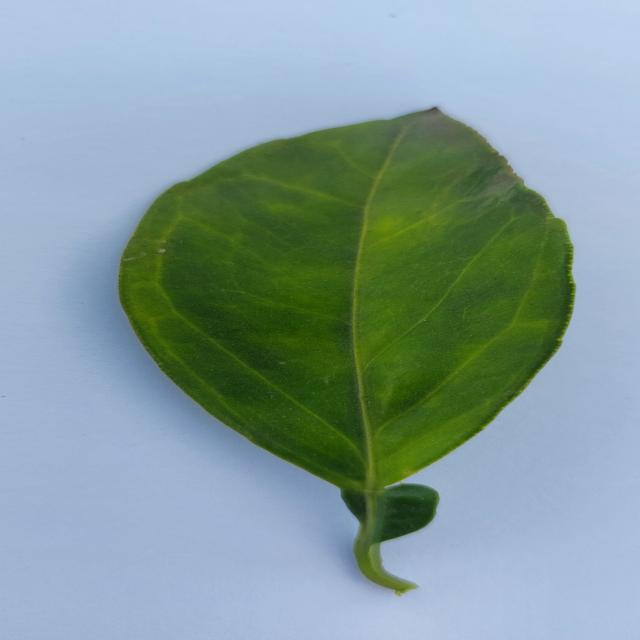greening: (119, 108, 574, 595)
